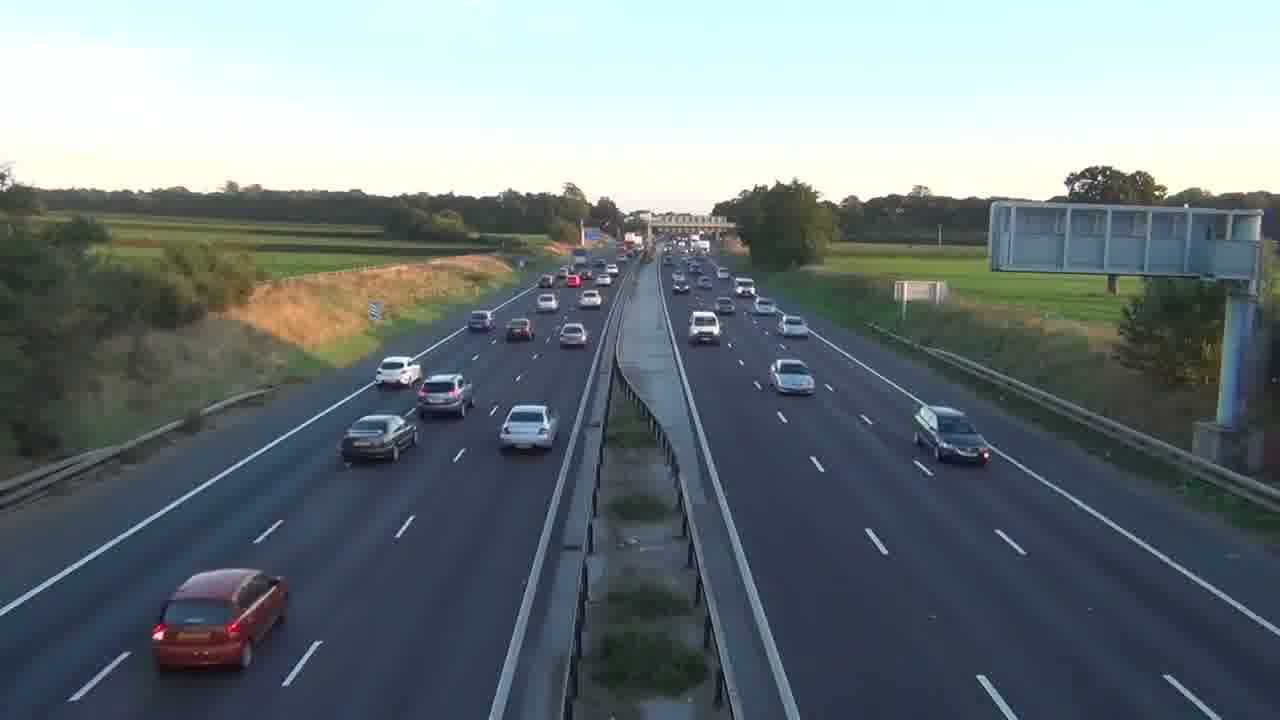car: (149, 566, 289, 673), (337, 412, 419, 464), (498, 403, 559, 453), (768, 358, 815, 396), (558, 320, 590, 349), (506, 317, 534, 342)
truck: (911, 403, 992, 466)
